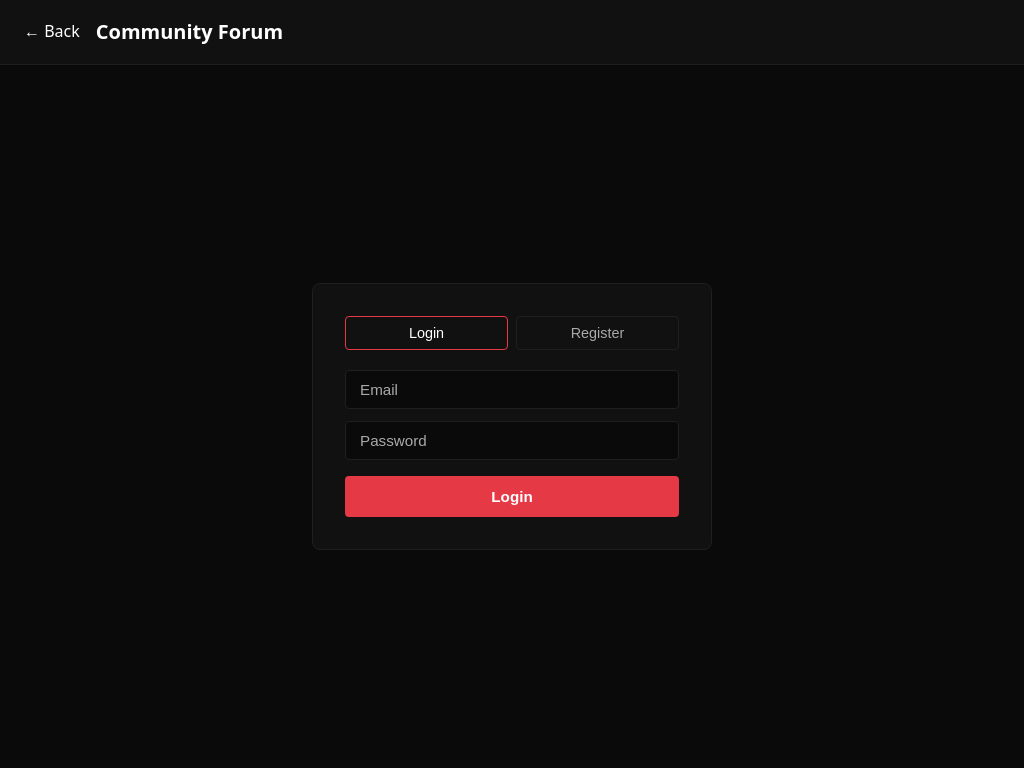
Test case: Forum › shows error message on failed login
Type "wrong@test.com" into the field with placeholder "Email" at (512, 390), box [345, 370, 679, 409]
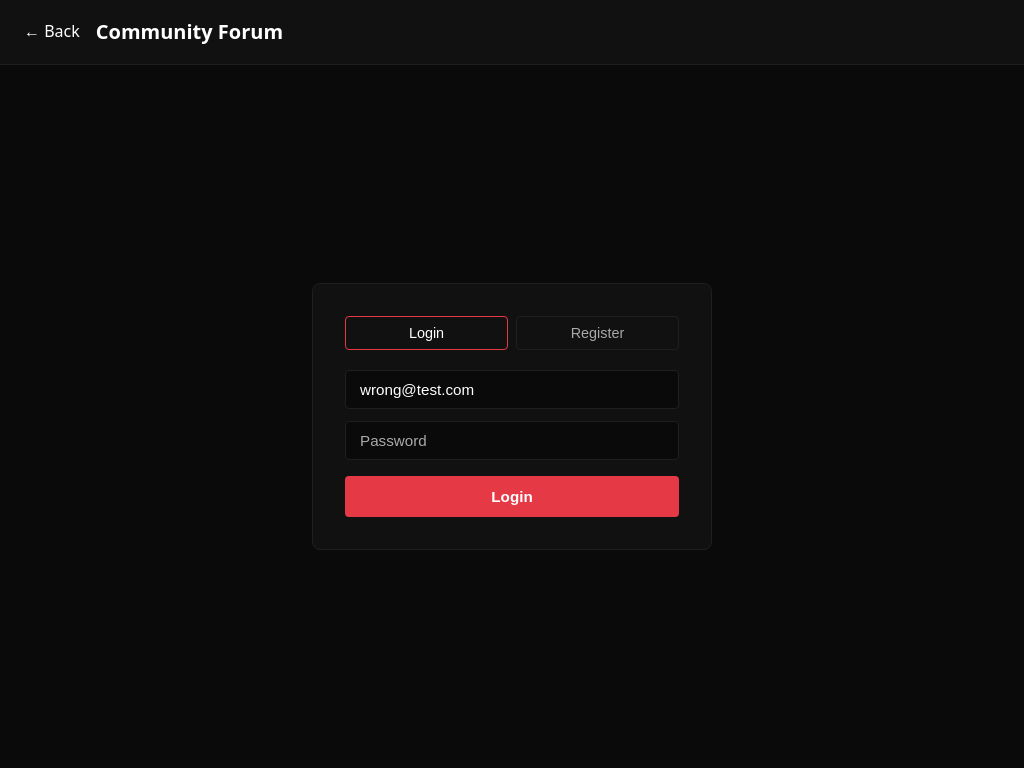
Type "wrongpassword" into the password field with placeholder "Password" at (512, 440), box [345, 421, 679, 460]
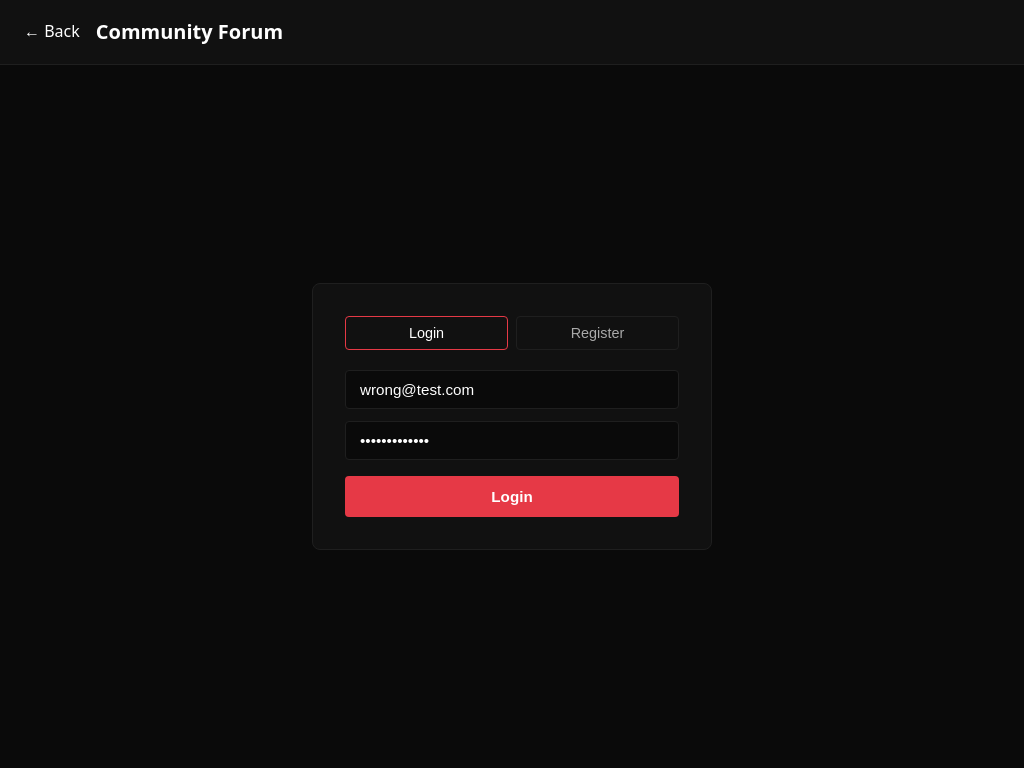
Click the button with class "forum-auth-submit" at (512, 496), box [345, 476, 679, 517]
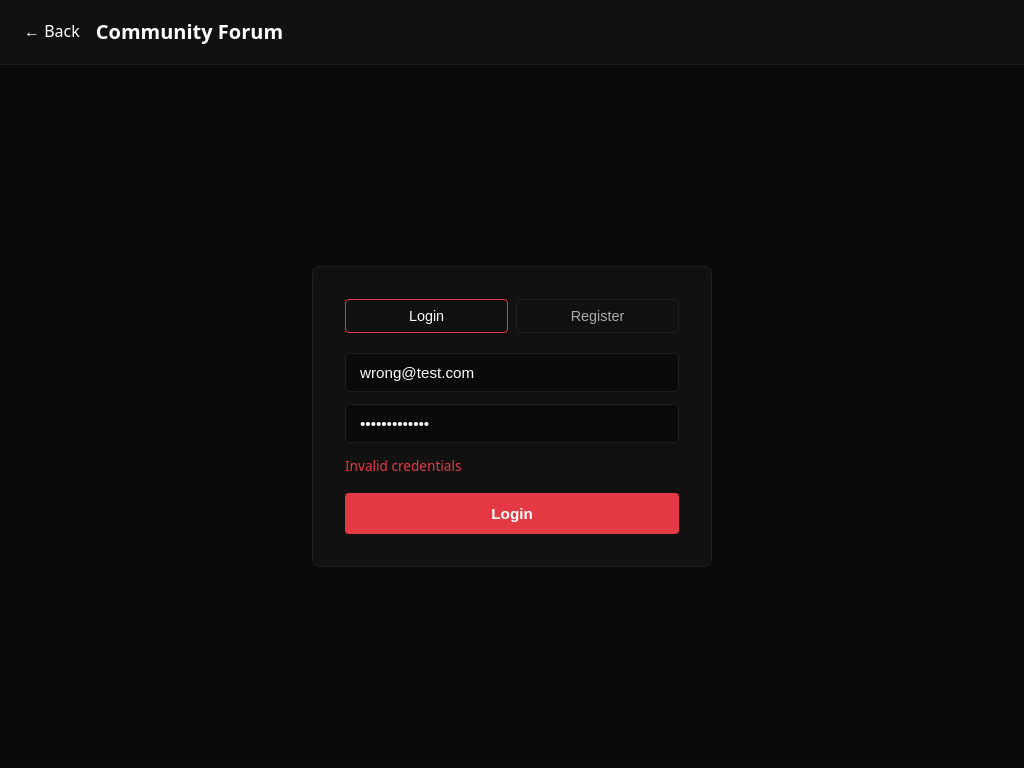
Expected: the text "Invalid credentials" is shown, [345, 456, 462, 475]
